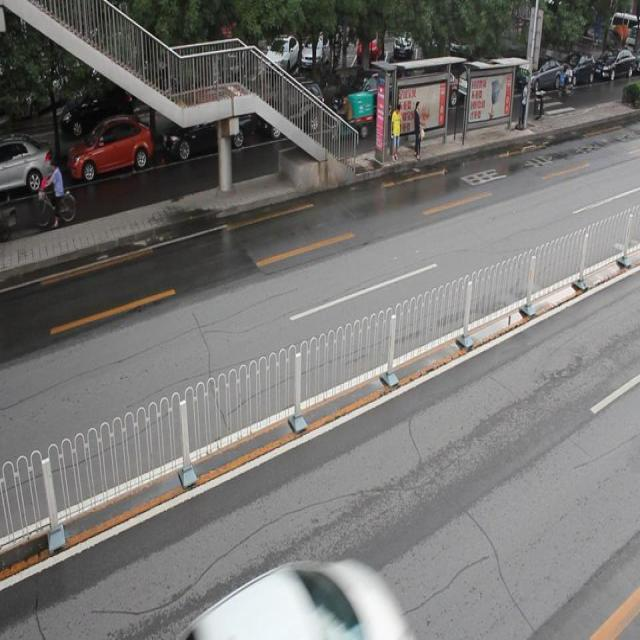car: (179, 562, 406, 640), (66, 116, 151, 180), (157, 107, 249, 160), (259, 78, 320, 138), (336, 68, 396, 123), (1, 137, 52, 196)
